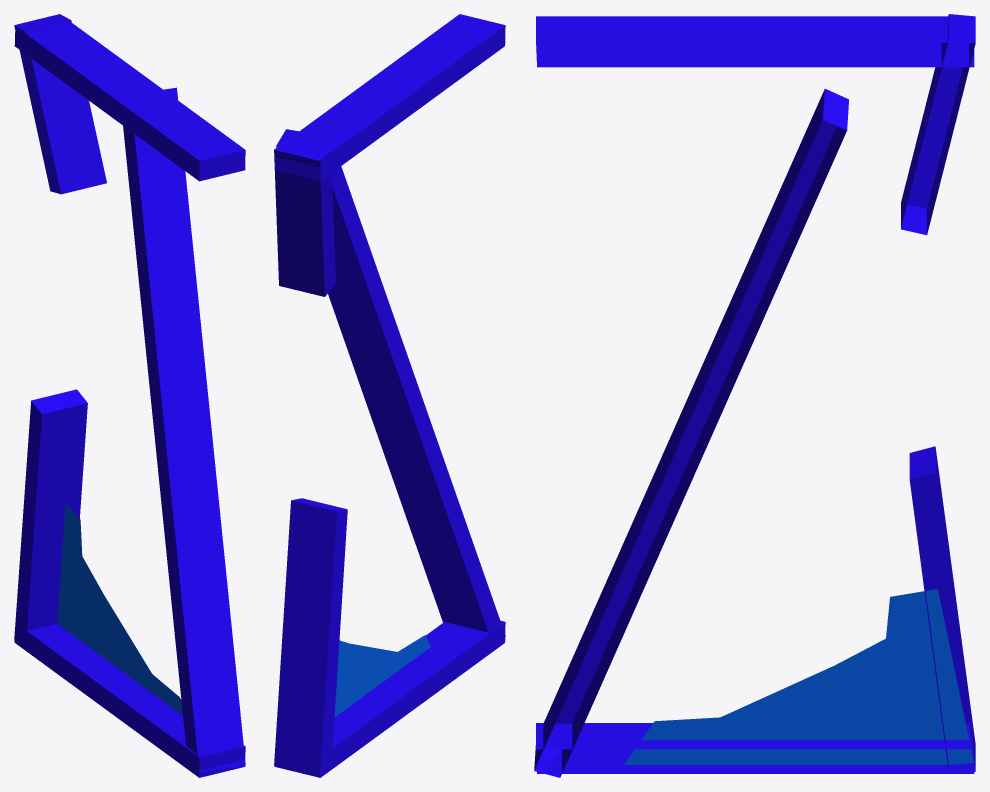
Rendered from SM_Window8.fbx.
3 renders of one model, left to right at view 1: azimuth 30°, elevation 25°; view 2: azimuth 150°, elevation 25°; view 3: azimuth 270°, elevation 25°, orthographic. The views are drawn at different scales.
Visible parts, largest first — view 1: Window8; view 2: Window8; view 3: Window8.
Part boxes in pixels (x1,y1,x2,y2): Window8: [14, 14, 245, 777]; Window8: [274, 14, 505, 777]; Window8: [534, 14, 975, 777].
Size of the model in its own units: 20.81 by 126 by 68.14.
